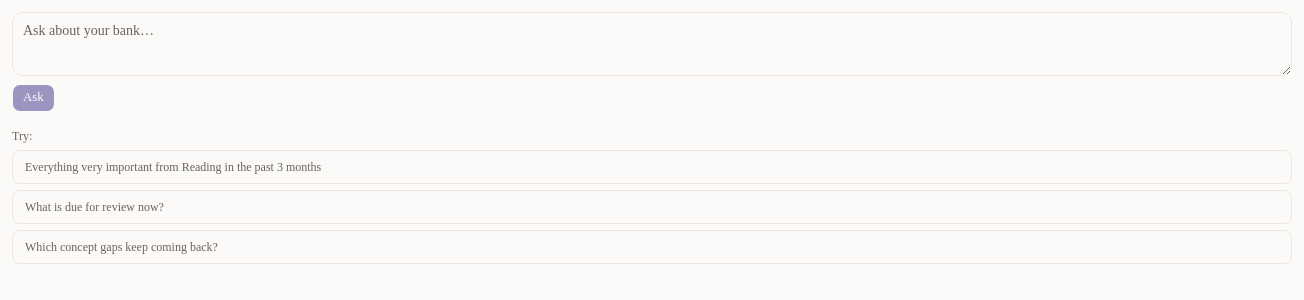
Test: Ask › still lists the rows when the model failed to summarise them
Type "everything" into the text box labelled "Ask about your bank" at (652, 44), box [12,12,1292,76]
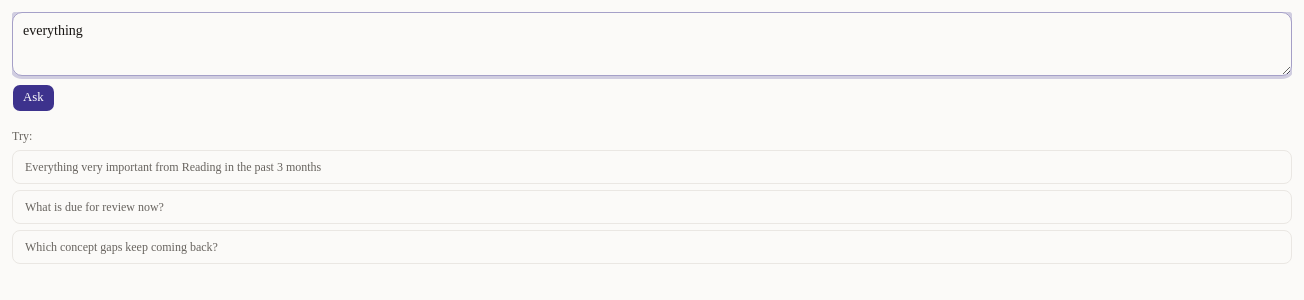
Click the button "Ask" at (33, 98), box [12,84,55,112]
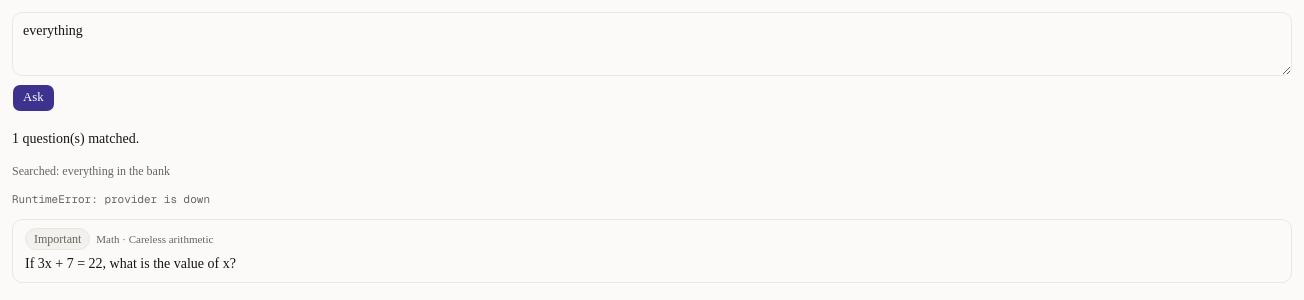
Result: the text "1 question(s) matched." is shown at [12,131,139,146]
Result: the text "RuntimeError: provider is down" is shown at [12,192,210,206]
Result: the number of links is 1 at [12,219,1292,283]
